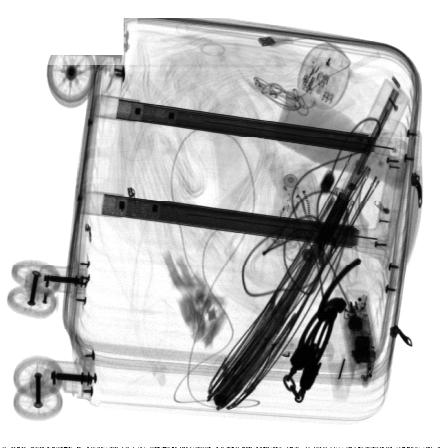HandCuffs: (281, 255, 363, 406)
